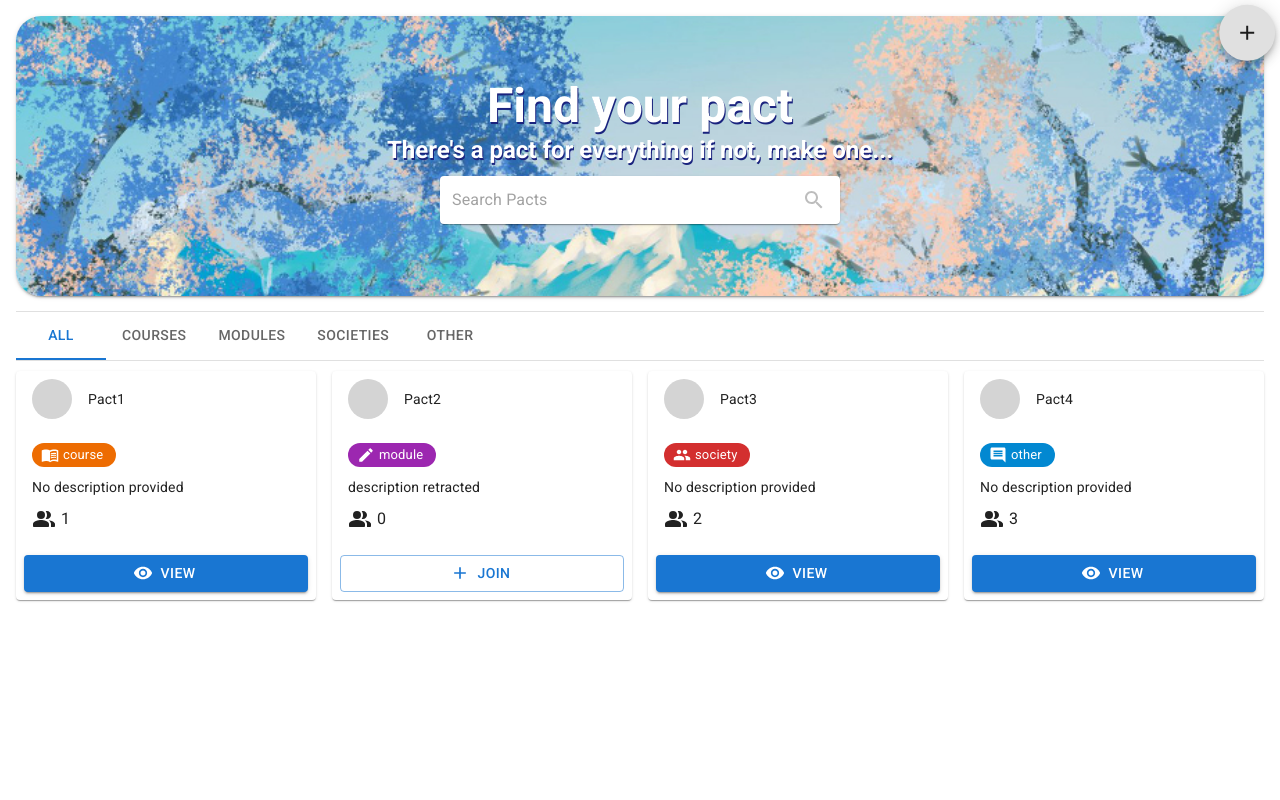
Test: University Hub Tests › Check interaction with elements › Search bar interactions › should filter pacts in a case insensitive manner
Check: the text "Pact1" is shown, box 88,391 -> 125,407
Check: the text "Pact2" is shown, box 404,391 -> 441,407
Type "pact1" into the field with placeholder "Search Pacts" at (622, 200), box 452,184 -> 792,216
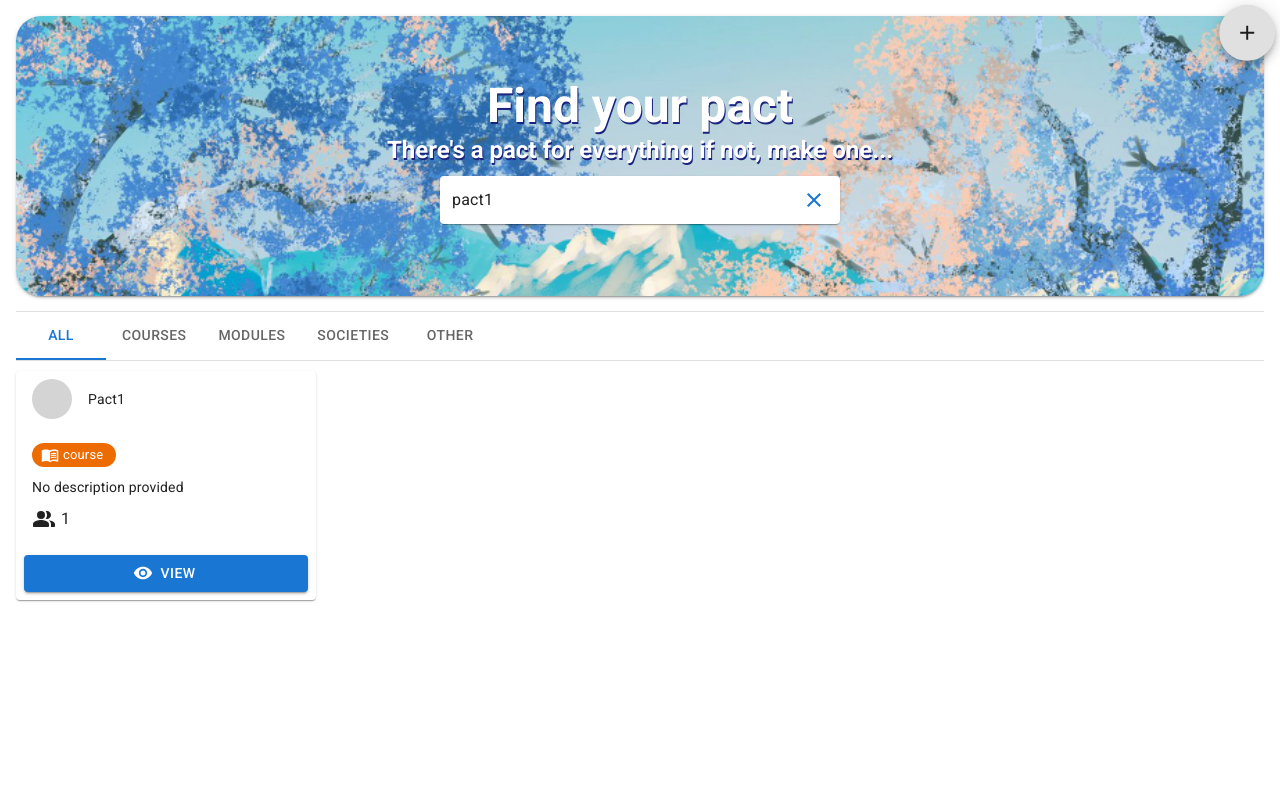
Check: the text "Pact2" is gone
Check: the text "Pact3" is gone
Check: the text "Pact4" is gone
